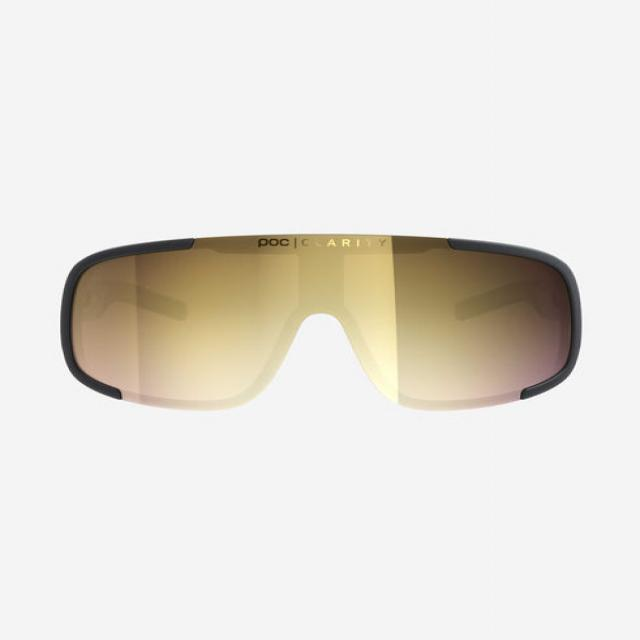Protective Glasses: (36, 197, 601, 447)
